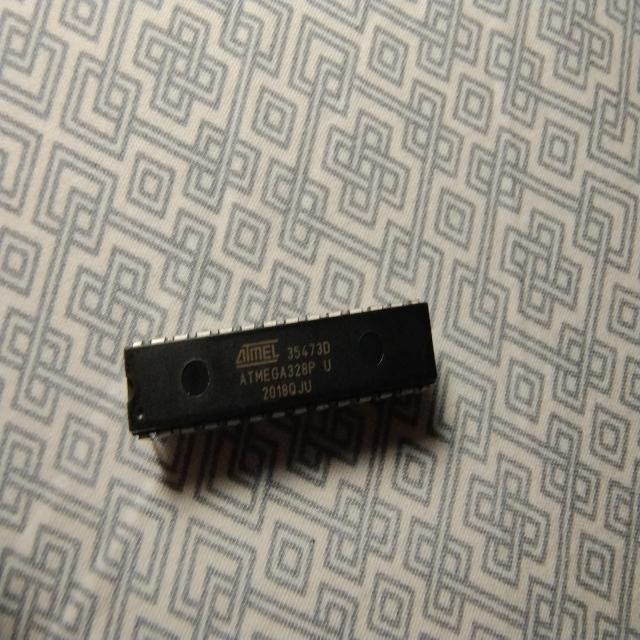atmega: (122, 299, 440, 445)
